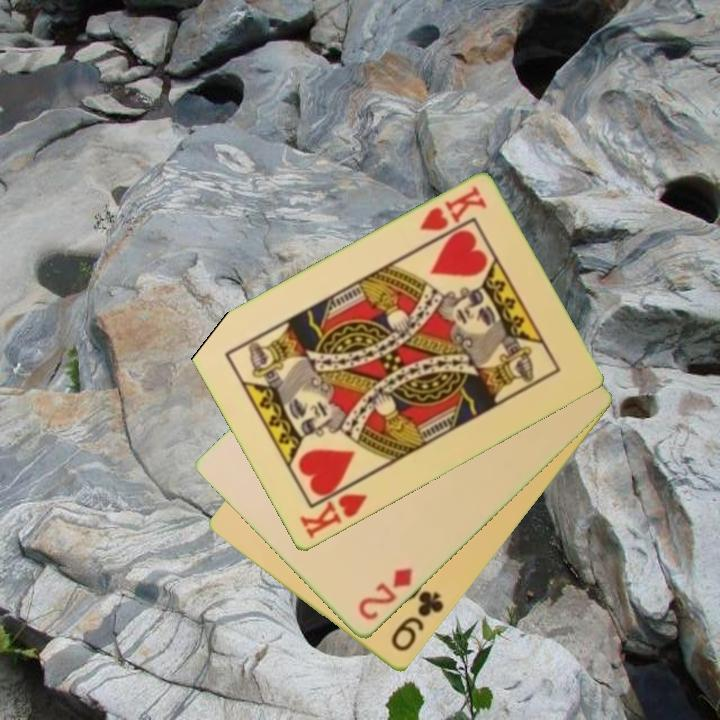2d: (354, 565, 415, 624)
9c: (387, 587, 447, 656)
Kh: (296, 477, 371, 542), (415, 183, 490, 235)
